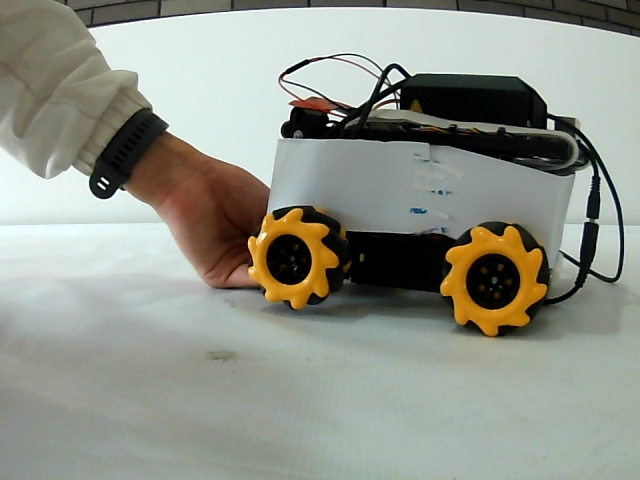car: (271, 58, 582, 335)
paper: (280, 138, 561, 228)
